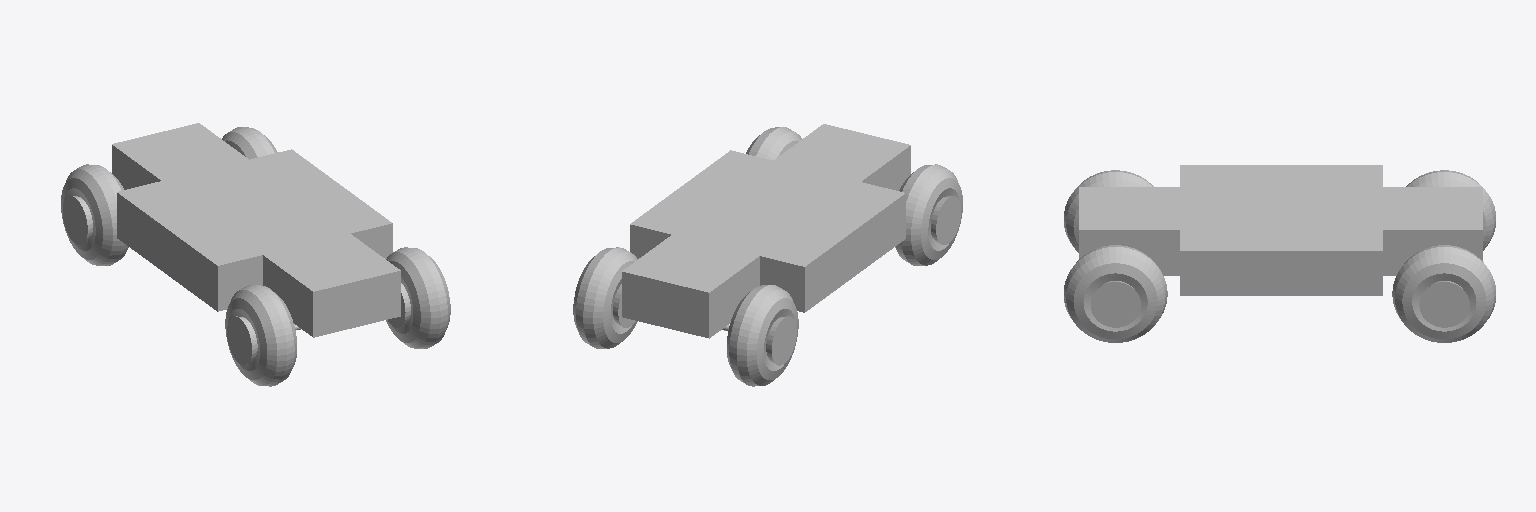
File: aaronscientiae.cart1.obj
3 renders of one model, left to right at view 1: azimuth 30°, elevation 25°; view 2: azimuth 150°, elevation 25°; view 3: azimuth 270°, elevation 25°, orthographic.
Visible parts, largest first — view 1: Cube_Cube.002, Cube.002_Cube.004, Cube.001_Cube.003, Torus.009, Torus.007_Torus.011, Torus.005, Cylinder.007, Cylinder.005, Torus; view 2: Cube_Cube.002, Cube.001_Cube.003, Cube.002_Cube.004, Torus.005, Torus, Torus.009, Cylinder.005, Cylinder.007, Torus.007_Torus.011; view 3: Cube_Cube.002, Cube.002_Cube.004, Cube.001_Cube.003, Torus.007_Torus.011, Torus, Cylinder.001, Cylinder.008, Torus.009, Torus.005.
Boxes of the visible parts, x1,y1,x2,y2 form: Cube_Cube.002: [117, 149, 392, 311]; Cube.002_Cube.004: [263, 234, 400, 337]; Cube.001_Cube.003: [112, 123, 248, 189]; Torus.009: [225, 285, 296, 386]; Torus.007_Torus.011: [386, 247, 450, 348]; Torus.005: [61, 164, 128, 265]; Cylinder.007: [227, 316, 257, 365]; Cylinder.005: [63, 196, 92, 244]; Torus: [222, 127, 277, 159]; Cube_Cube.002: [630, 150, 905, 312]; Cube.001_Cube.003: [622, 234, 759, 338]; Cube.002_Cube.004: [773, 124, 910, 190]; Torus.005: [727, 285, 798, 386]; Torus: [573, 247, 637, 348]; Torus.009: [895, 164, 962, 265]; Cylinder.005: [766, 316, 796, 365]; Cylinder.007: [931, 196, 960, 244]; Torus.007_Torus.011: [746, 127, 801, 159]; Cube_Cube.002: [1180, 165, 1382, 295]; Cube.002_Cube.004: [1079, 187, 1179, 275]; Cube.001_Cube.003: [1382, 187, 1482, 275]; Torus.007_Torus.011: [1064, 245, 1167, 342]; Torus: [1392, 245, 1495, 342]; Cylinder.001: [1419, 281, 1469, 327]; Cylinder.008: [1091, 281, 1140, 327]; Torus.009: [1064, 170, 1153, 252]; Torus.005: [1406, 170, 1495, 250].
Size of the model in its own units: 9 by 4.19 by 17.12.